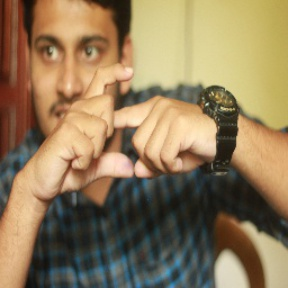E: (81, 63, 161, 182)
